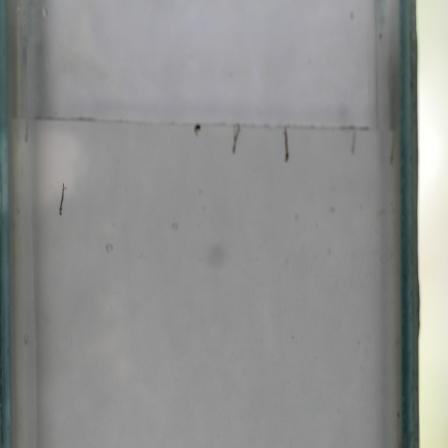Jentik-Nyamuk: (53, 179, 70, 219)
